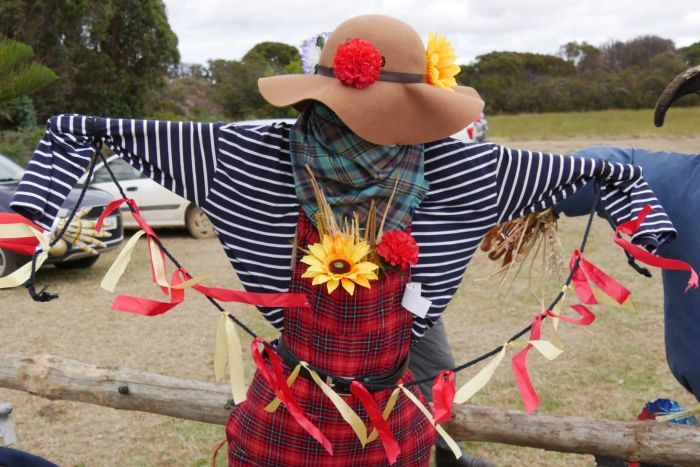person-like: (3, 6, 682, 467)
